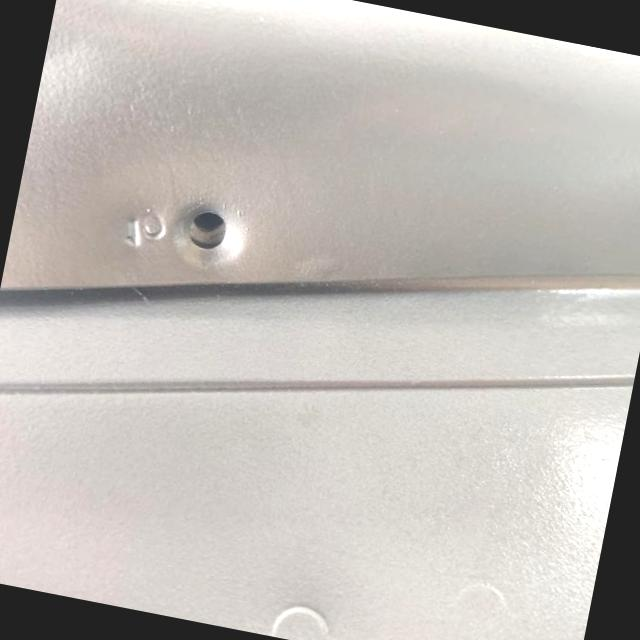Missing Fastener: (180, 203, 242, 260)
